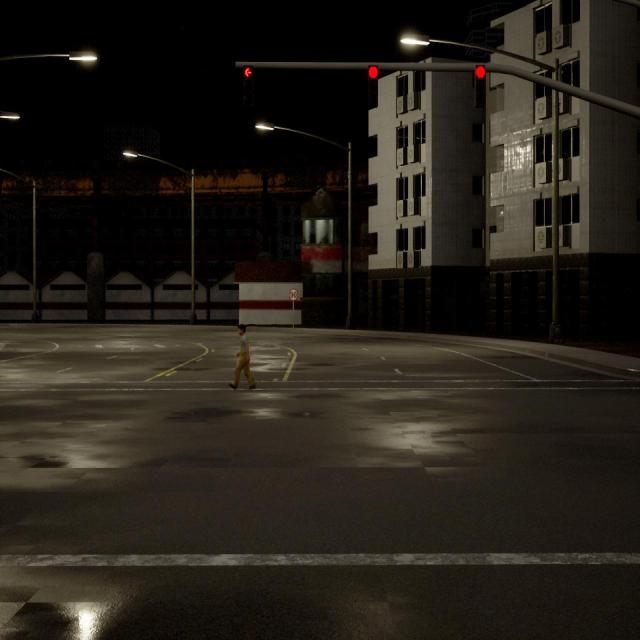Pedestrian: (229, 324, 254, 389)
Traffic_Signs: (289, 289, 298, 300)
traffic_light: (242, 65, 254, 102), (475, 66, 486, 106), (367, 66, 378, 101)
